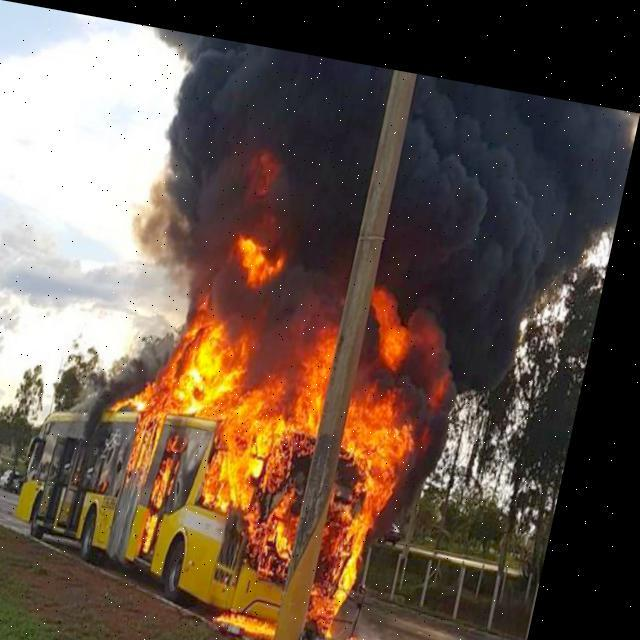Fire: (91, 195, 479, 639)
